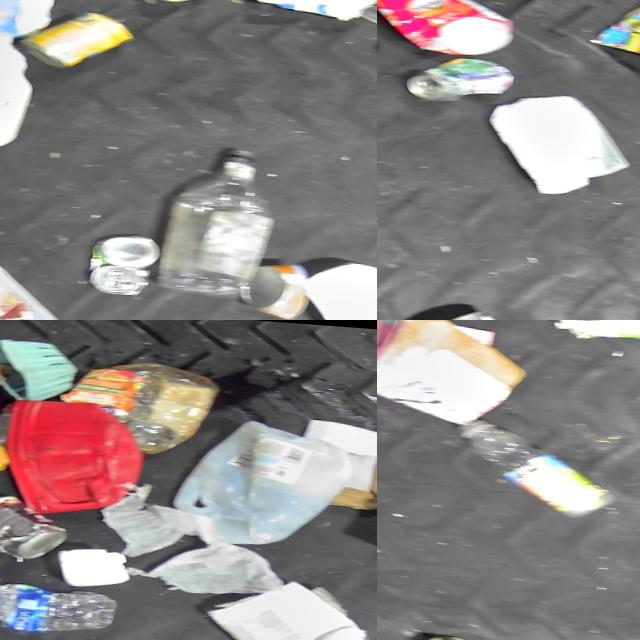can: (31, 11, 138, 71), (79, 224, 163, 299), (404, 47, 514, 102), (0, 487, 70, 561), (244, 248, 316, 319), (407, 298, 548, 320), (414, 631, 474, 640)
milk_jug: (168, 408, 352, 546), (0, 244, 93, 320)
non_white_jug: (377, 0, 516, 53)
plastic_bottle: (457, 416, 620, 517), (0, 578, 121, 634)
